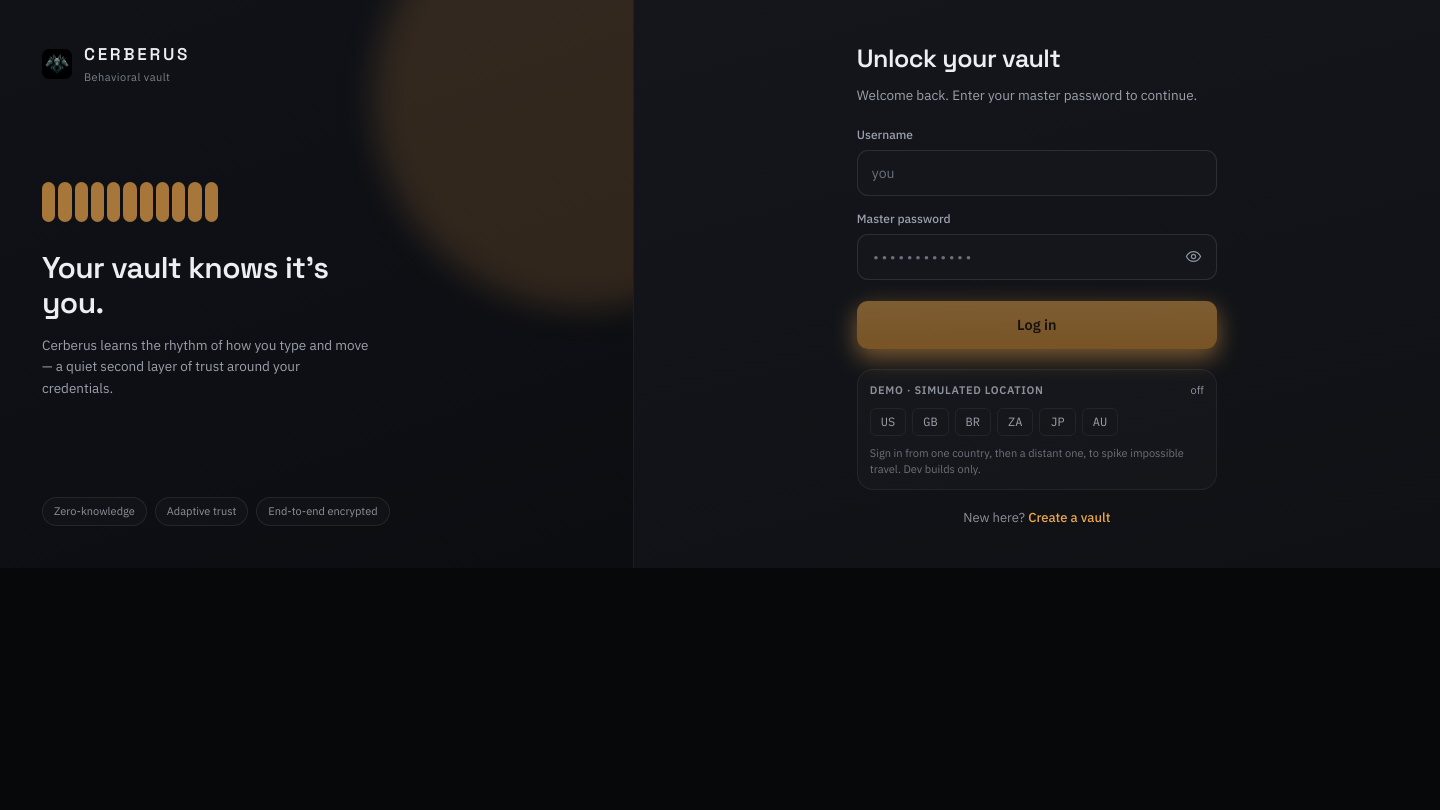
Test: AuthScreen — distinct login outcomes (Part A) › 403 → "Access denied due to risk" and leaks no risk detail
Type "alice" into the field labelled "Username" at x=1037, y=173, box [857,150,1217,196]
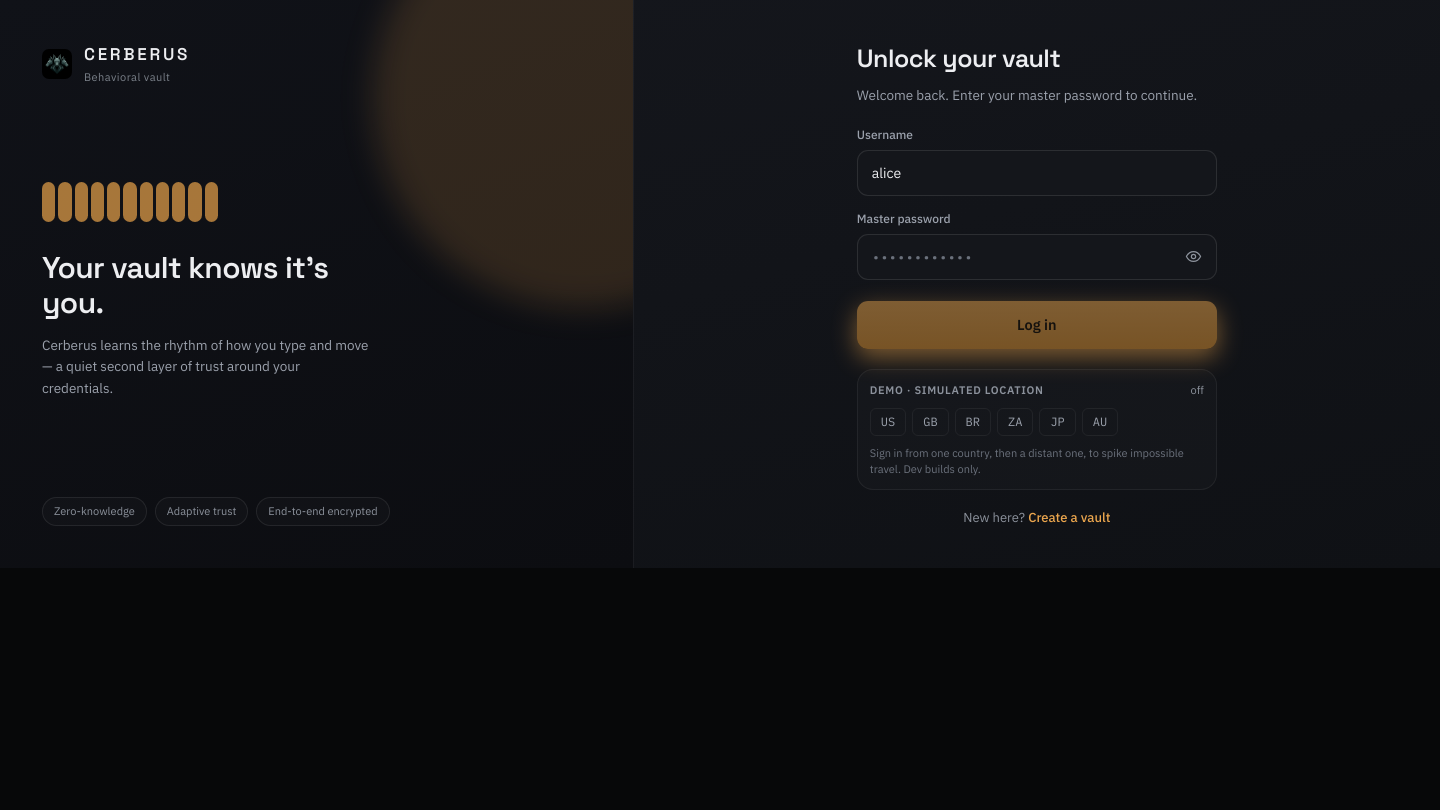
Type "master-pw" into the password field labelled "Master password" at x=1037, y=257, box [857,234,1217,280]
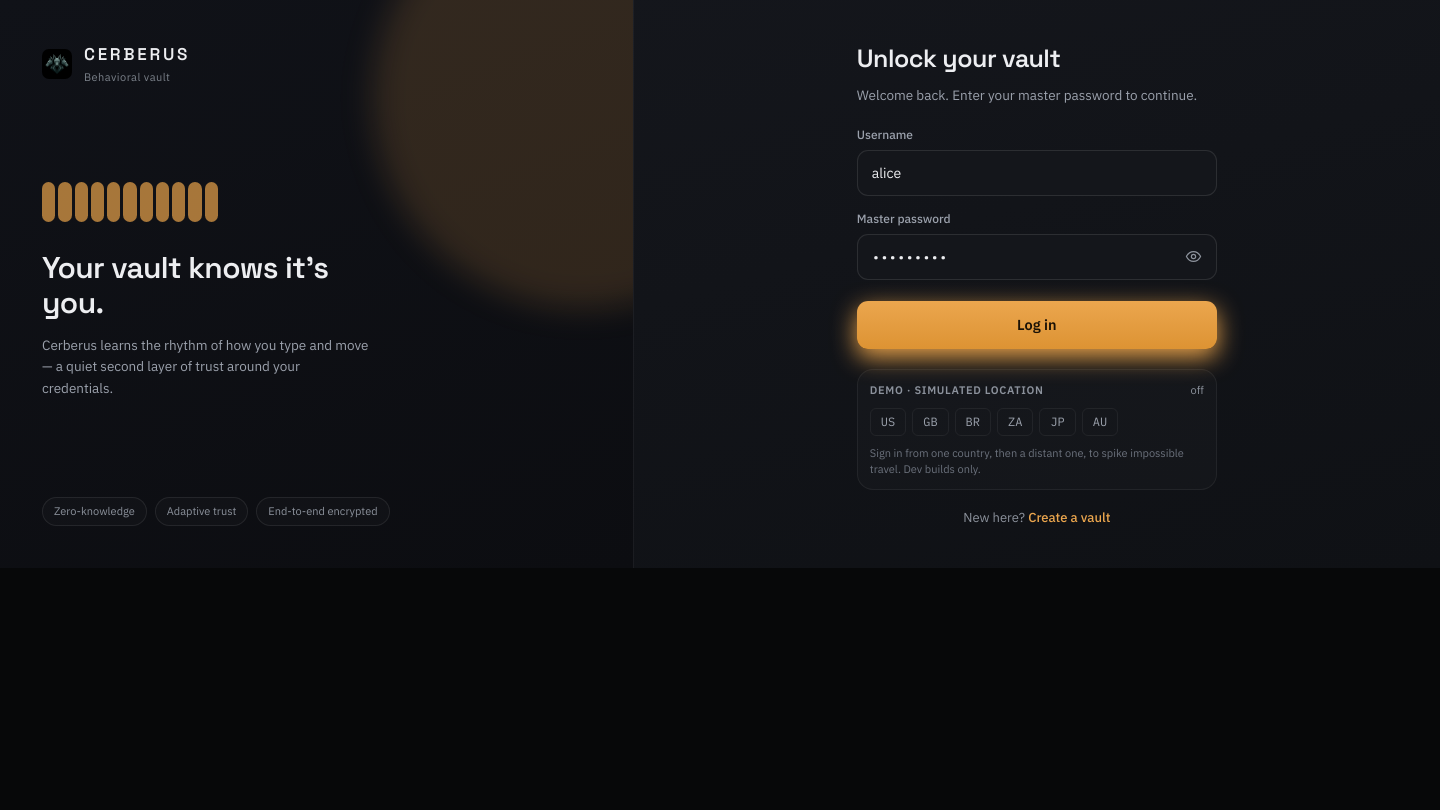
Click the button "Log in" at x=1037, y=325, box [857,301,1217,349]
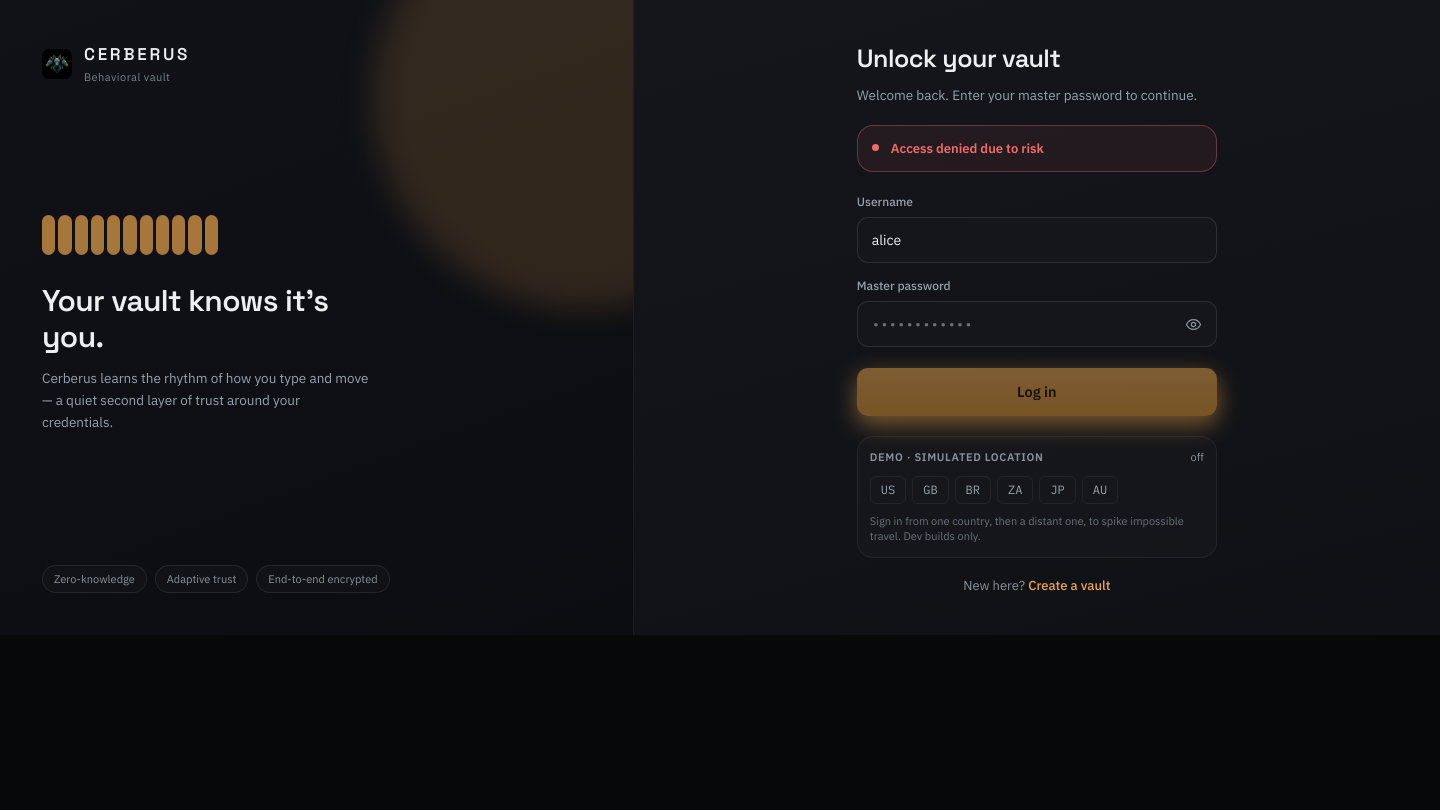
expect the message reads "Access denied due to risk": met, box [891,140,1044,157]
